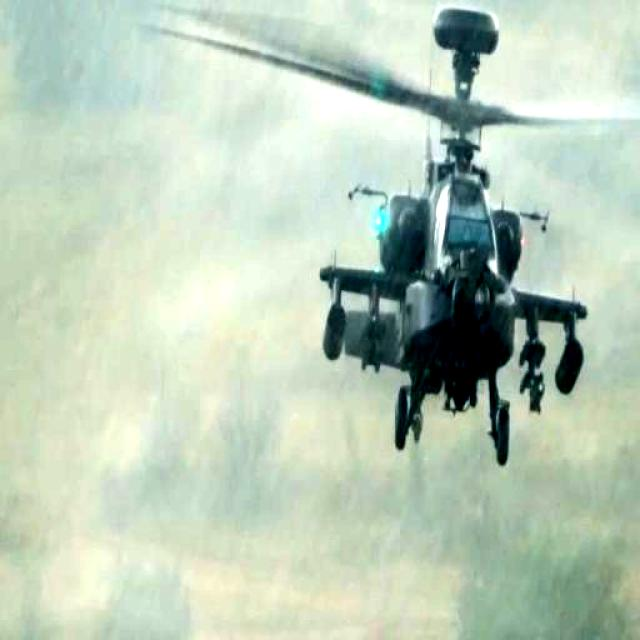drone: (158, 0, 640, 469)
